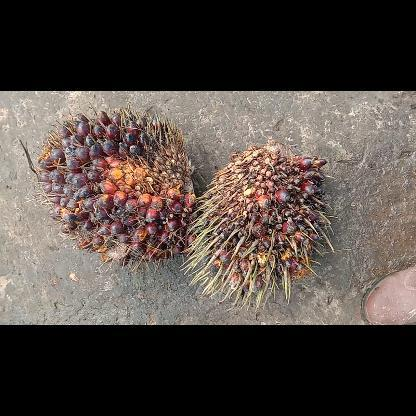Kurang masak: (32, 101, 200, 268)
TBS abnormal: (180, 141, 334, 310)
